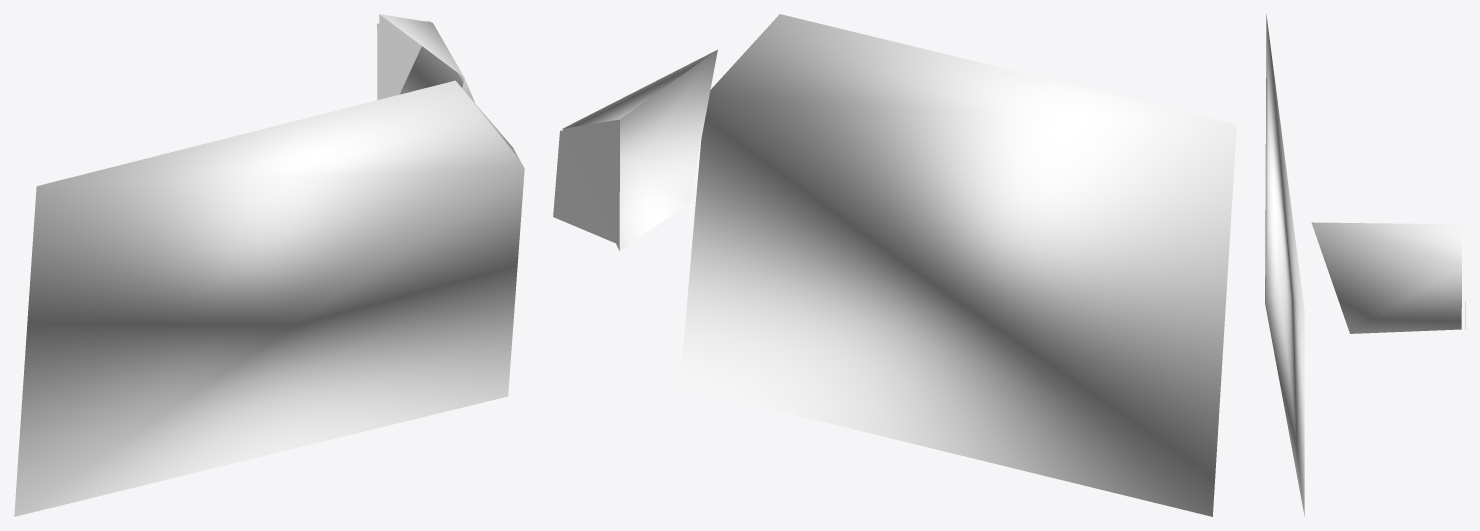
The picture shows the model from 3 angles, left to right: view 1: azimuth 30°, elevation 25°; view 2: azimuth 150°, elevation 25°; view 3: azimuth 270°, elevation 25°; orthographic projection. The views are drawn at different scales.
Size of the model in its own units: 0.2355 by 0.1517 by 0.0927.
Materials: 1 (1 with a texture image).
